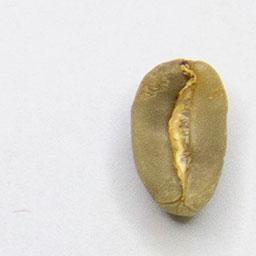longberry: (129, 53, 230, 221)
